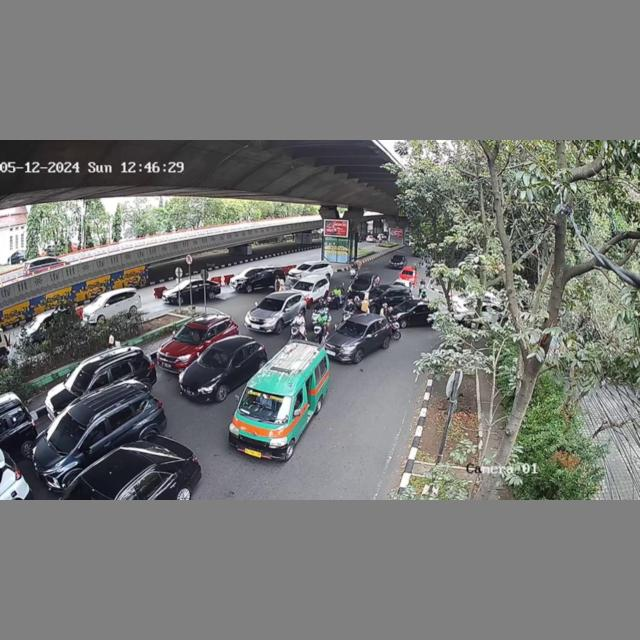windshield: (243, 387, 291, 423), (199, 346, 232, 371), (169, 324, 206, 345), (337, 320, 366, 339), (258, 296, 284, 312)
